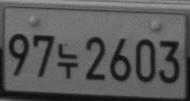0: (134, 37, 156, 83)
2: (84, 35, 106, 81)
3: (158, 39, 180, 84)
6: (109, 37, 132, 82)
7: (31, 33, 54, 78)
9: (7, 32, 29, 76)
누: (57, 42, 78, 79)
